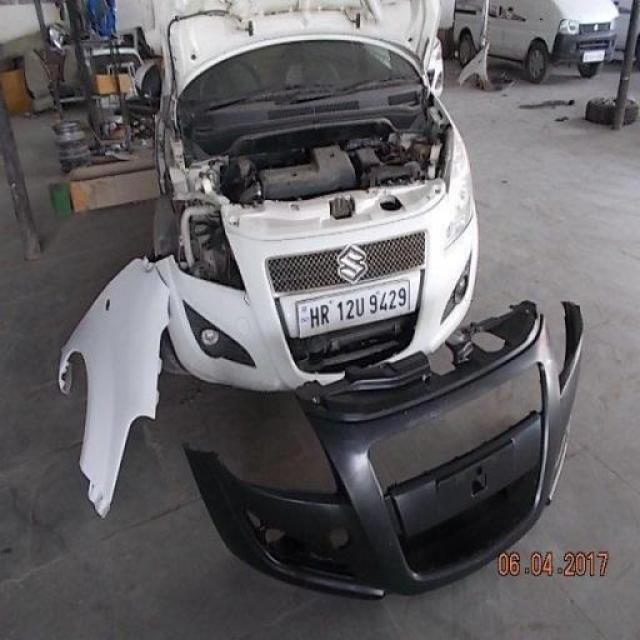tear: (155, 131, 248, 300)
